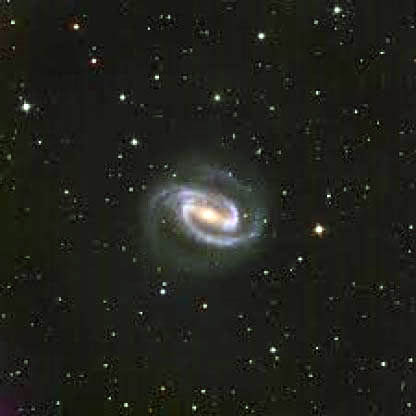NGC 1300: (137, 143, 288, 276)
